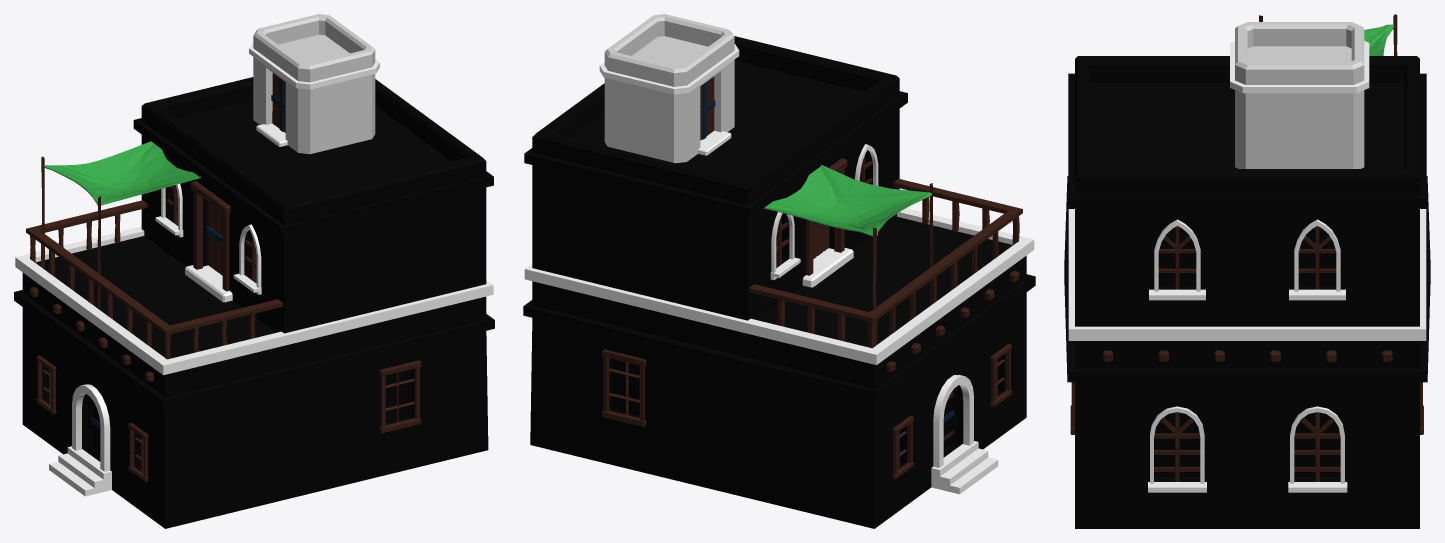
File: civilian_house_32_e.FBX
The picture shows the model from 3 angles, left to right: view 1: azimuth 30°, elevation 25°; view 2: azimuth 150°, elevation 25°; view 3: azimuth 270°, elevation 25°; orthographic projection. The views are drawn at different scales.
Visible parts, largest first — view 1: civilian_house_32_e; view 2: civilian_house_32_e; view 3: civilian_house_32_e.
Boxes of the visible parts, x1=… form: civilian_house_32_e: x1=14, y1=14, x2=494, y2=528; civilian_house_32_e: x1=523, y1=14, x2=1035, y2=528; civilian_house_32_e: x1=1064, y1=14, x2=1430, y2=528.
Bounding box in the file's own units: 1157 × 1120 × 850.
